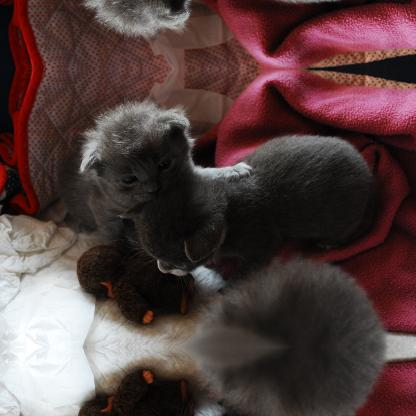Cat: (118, 135, 382, 293), (75, 101, 258, 246), (74, 0, 258, 36)
